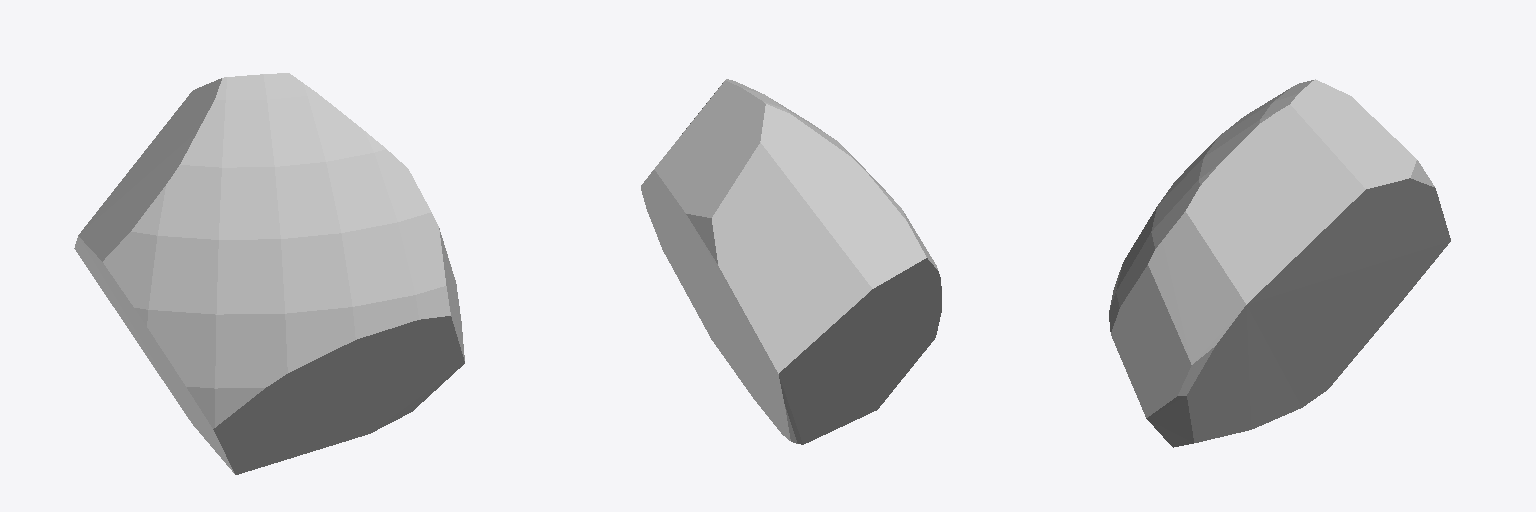
Rendered from Sphere_Cell_Fracture9.obj.
3 views of the same model, side by side, from view 1: azimuth 30°, elevation 25°; view 2: azimuth 150°, elevation 25°; view 3: azimuth 270°, elevation 25° (orthographic).
Size of the model in its own units: 0.9471 by 0.9893 by 0.8991.